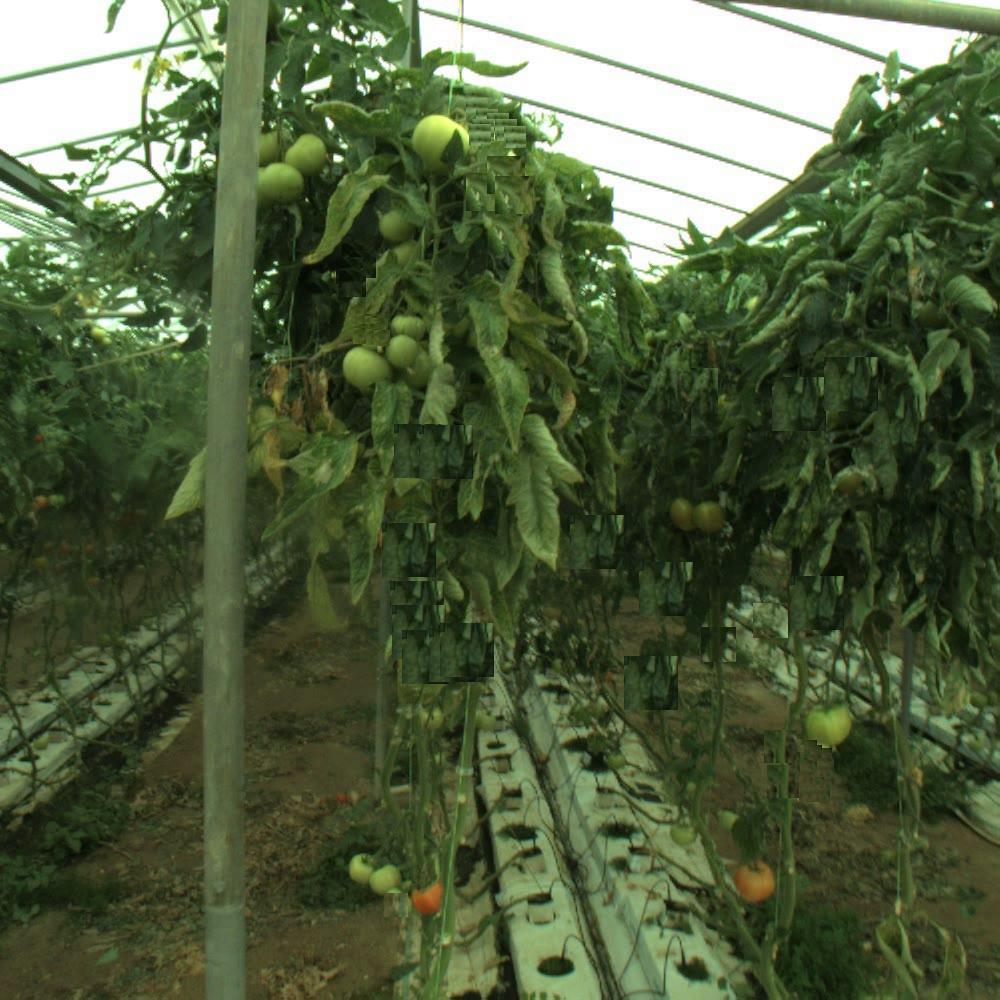['unripe', 'semi-ripe', 'fully-ripe']: (413, 114, 471, 172), (254, 158, 304, 208), (341, 343, 391, 393), (809, 703, 853, 747), (377, 204, 417, 244), (289, 133, 329, 173), (387, 336, 421, 370), (392, 313, 424, 345), (347, 855, 377, 885), (371, 865, 401, 895)
